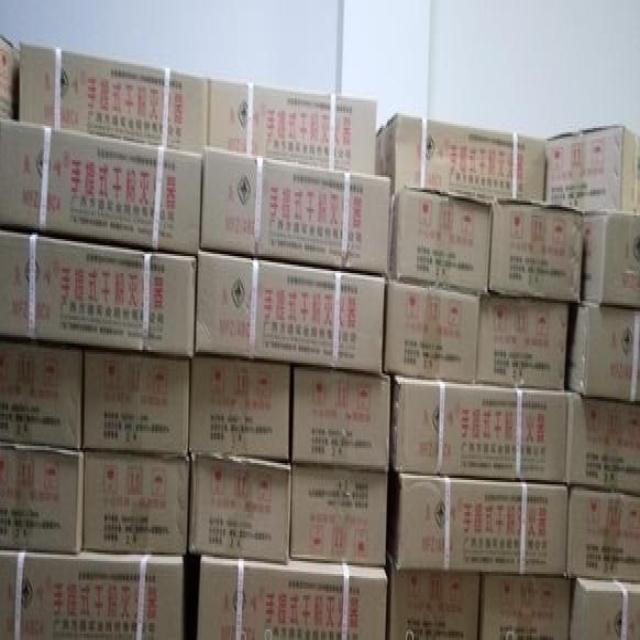box: (0, 117, 202, 252), (0, 230, 196, 356), (199, 147, 390, 273), (194, 250, 385, 373), (20, 47, 210, 151), (391, 375, 569, 484), (394, 474, 567, 576), (0, 550, 184, 640), (198, 555, 388, 640), (210, 79, 377, 173), (376, 113, 545, 203), (84, 350, 190, 457), (388, 188, 493, 294), (189, 454, 291, 563), (82, 450, 189, 553), (189, 356, 290, 459), (293, 365, 390, 471), (290, 463, 388, 565), (488, 198, 585, 301), (384, 279, 481, 382), (0, 339, 84, 450), (475, 292, 569, 390), (0, 444, 82, 550), (544, 124, 640, 211), (566, 301, 640, 403), (565, 393, 640, 493), (566, 486, 640, 580), (389, 570, 479, 640), (581, 209, 640, 309), (483, 576, 571, 640)
